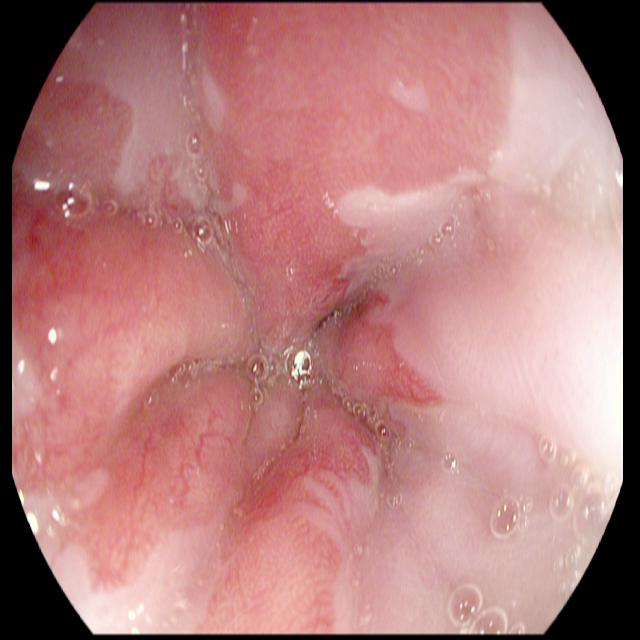esophagitis: (7, 1, 526, 640)
